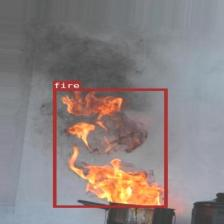fire: (52, 88, 167, 207)
